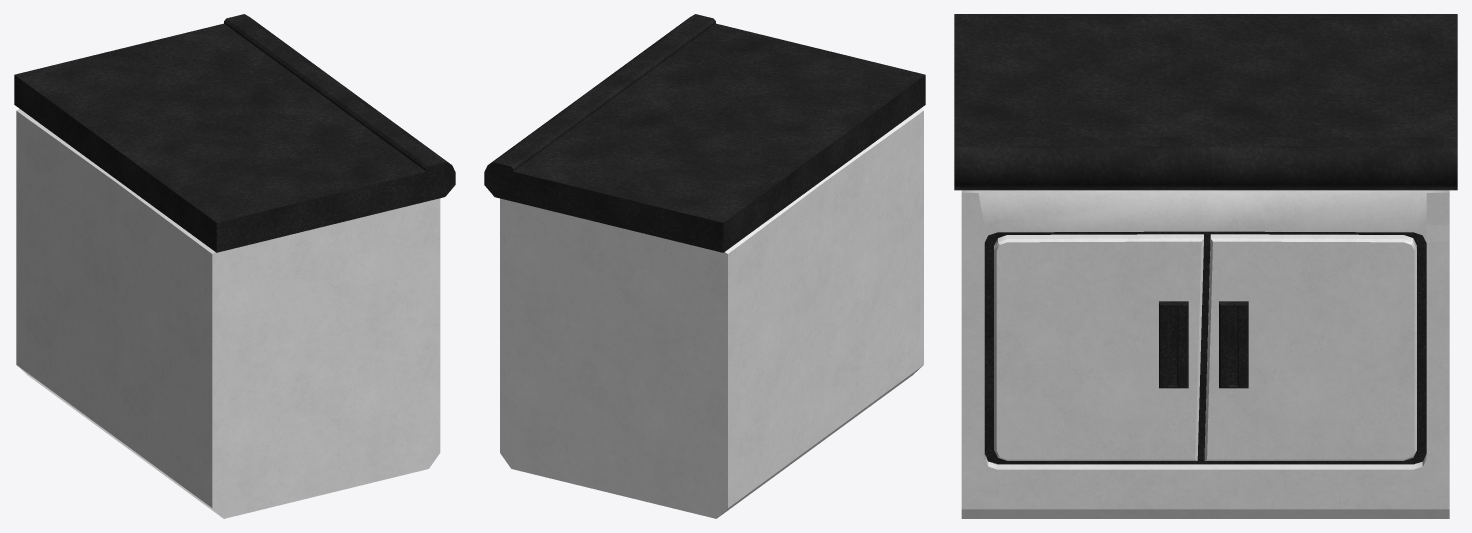
Rendered from CounterPlain_geo.fbx.
3 views of the same model, side by side, from view 1: azimuth 30°, elevation 25°; view 2: azimuth 150°, elevation 25°; view 3: azimuth 270°, elevation 25° (orthographic). The views are drawn at different scales.
Parts seen in each view (by area): view 1: Counter_BShape; view 2: Counter_BShape; view 3: Counter_BShape.
Part boxes in pixels (bbox=[...]): Counter_BShape: bbox=[14, 14, 455, 518]; Counter_BShape: bbox=[484, 14, 925, 518]; Counter_BShape: bbox=[954, 14, 1457, 518].
Size of the model in its own units: 83.12 by 101 by 121.
Materials: 1 (1 with a texture image).
